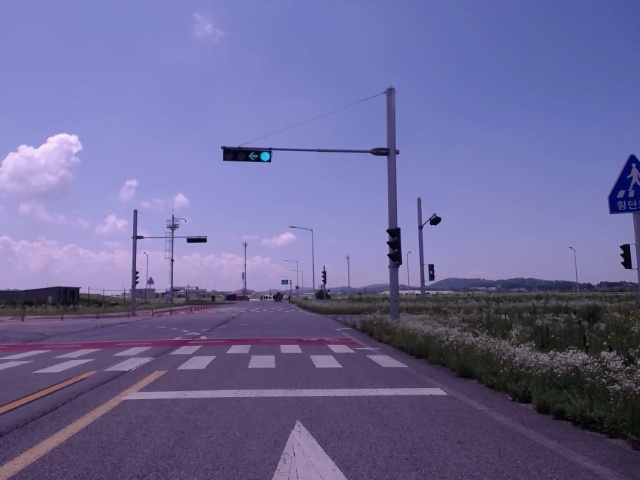all_green_4: (224, 148, 274, 163)
